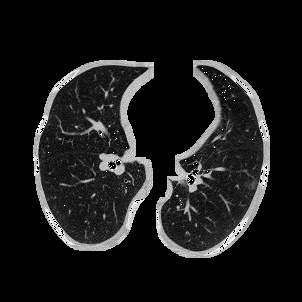PN: (246, 178, 258, 190)
